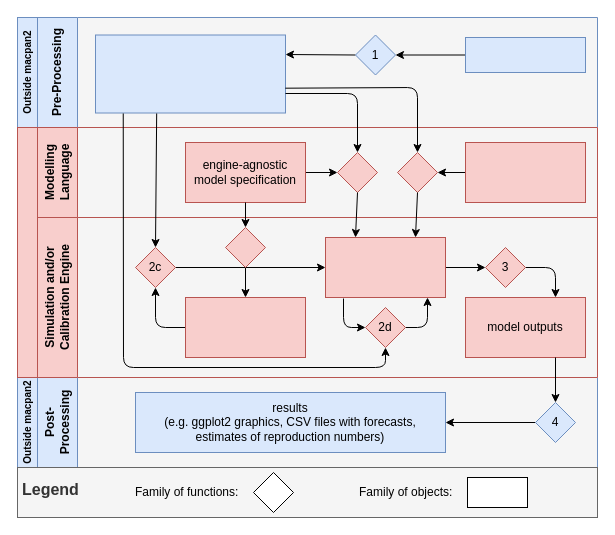
Some shapes in this 615 by 535 pixel diagram are drawn without their labels. Each missing label, with the centre of its shape:
2a: (x=357, y=172)
2b: (x=417, y=172)
data sources: (x=525, y=54)
engine-specific model specification: (x=245, y=327)
Inside macpan2: (x=27, y=252)
model library: (x=525, y=172)
model object: (x=385, y=267)
numerical information in standard formats (e.g. R vectors) (e.g. CSV files): (x=190, y=73)
